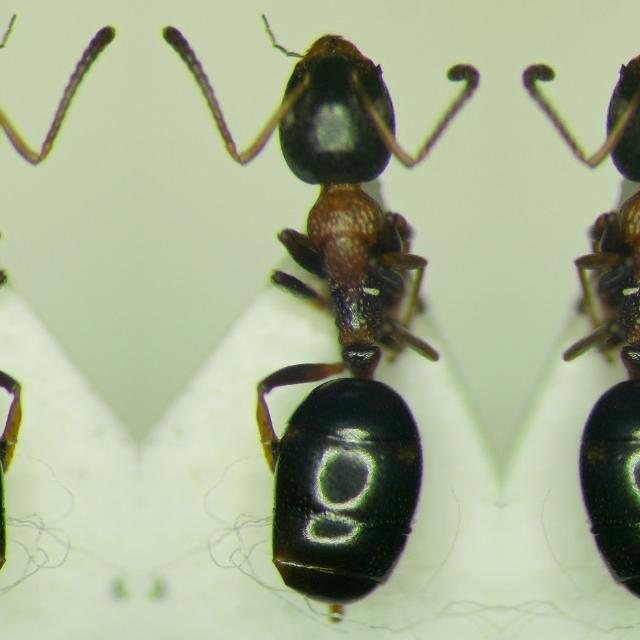Dolichoderus: (232, 8, 470, 606), (530, 7, 640, 606)
